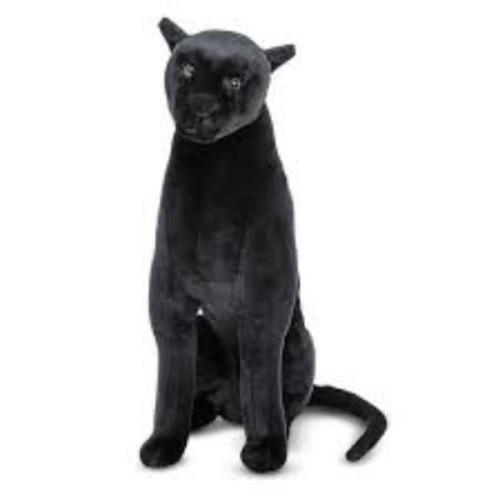panther-endangered: (140, 17, 314, 471)
